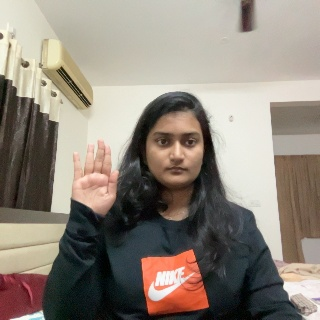Face: (142, 98, 206, 187)
Hello: (70, 138, 118, 225)
